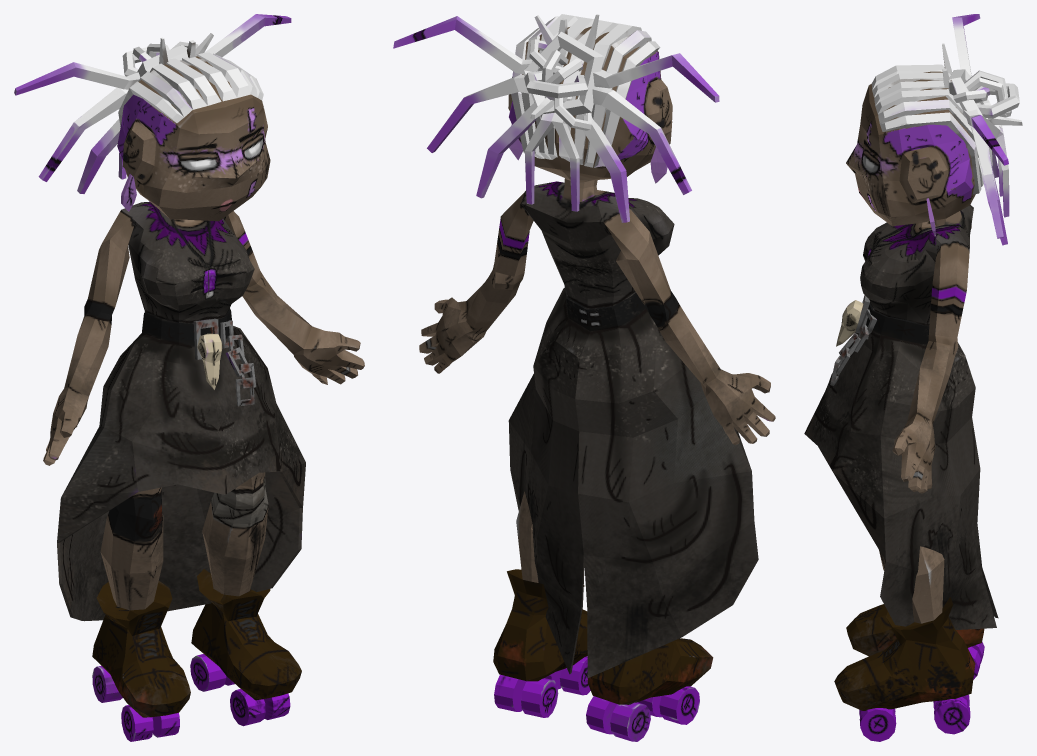
File: bruja_000059.obj
The picture shows the model from 3 angles, left to right: view 1: azimuth 30°, elevation 25°; view 2: azimuth 150°, elevation 25°; view 3: azimuth 270°, elevation 25°; orthographic projection. The views are drawn at different scales.
Visible parts, largest first — view 1: Bruja_Plane.001; view 2: Bruja_Plane.001; view 3: Bruja_Plane.001.
Boxes of the visible parts, x1,y1,x2,y2 form: Bruja_Plane.001: [14, 14, 364, 741]; Bruja_Plane.001: [393, 14, 775, 741]; Bruja_Plane.001: [804, 14, 1022, 741].
Size of the model in its own units: 8.28 by 16.47 by 4.96.
